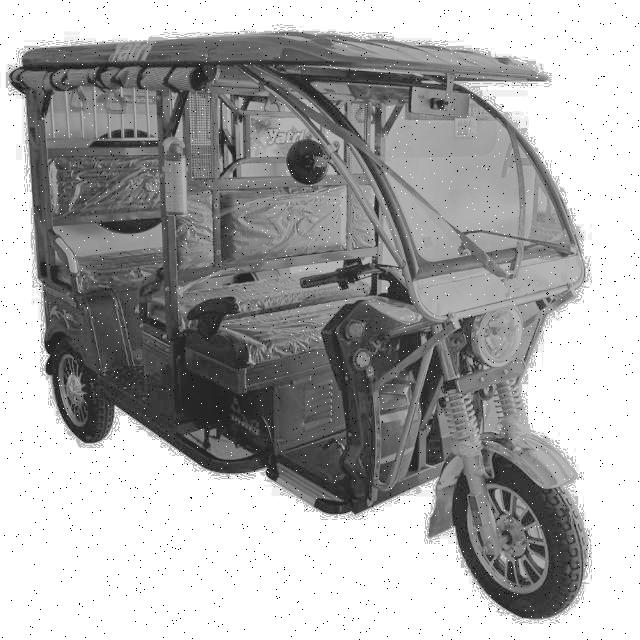Toto: (5, 32, 585, 628)
